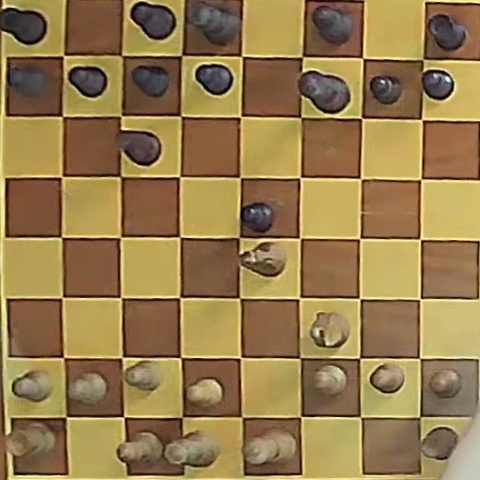black-bishop: (130, 2, 176, 40), (312, 5, 355, 45)
black-king: (299, 71, 350, 113)
black-knight: (118, 131, 160, 166)
black-pawn: (7, 64, 48, 97), (131, 65, 171, 97), (68, 66, 107, 98), (195, 64, 232, 95), (421, 70, 454, 100), (240, 202, 274, 231), (370, 76, 402, 105)
black-queen: (187, 3, 239, 46)
black-rook: (0, 7, 47, 46), (426, 13, 467, 51)
white-bishop: (118, 431, 164, 464)
white-king: (244, 428, 296, 465)
white-knight: (239, 242, 286, 277), (310, 312, 349, 348)
white-pawn: (12, 370, 52, 402), (69, 372, 107, 404), (125, 361, 161, 391), (186, 378, 223, 407), (370, 363, 405, 393), (313, 365, 347, 395), (429, 369, 462, 398)
white-queen: (164, 430, 220, 466)
white-rook: (6, 422, 55, 458), (420, 427, 459, 460)
